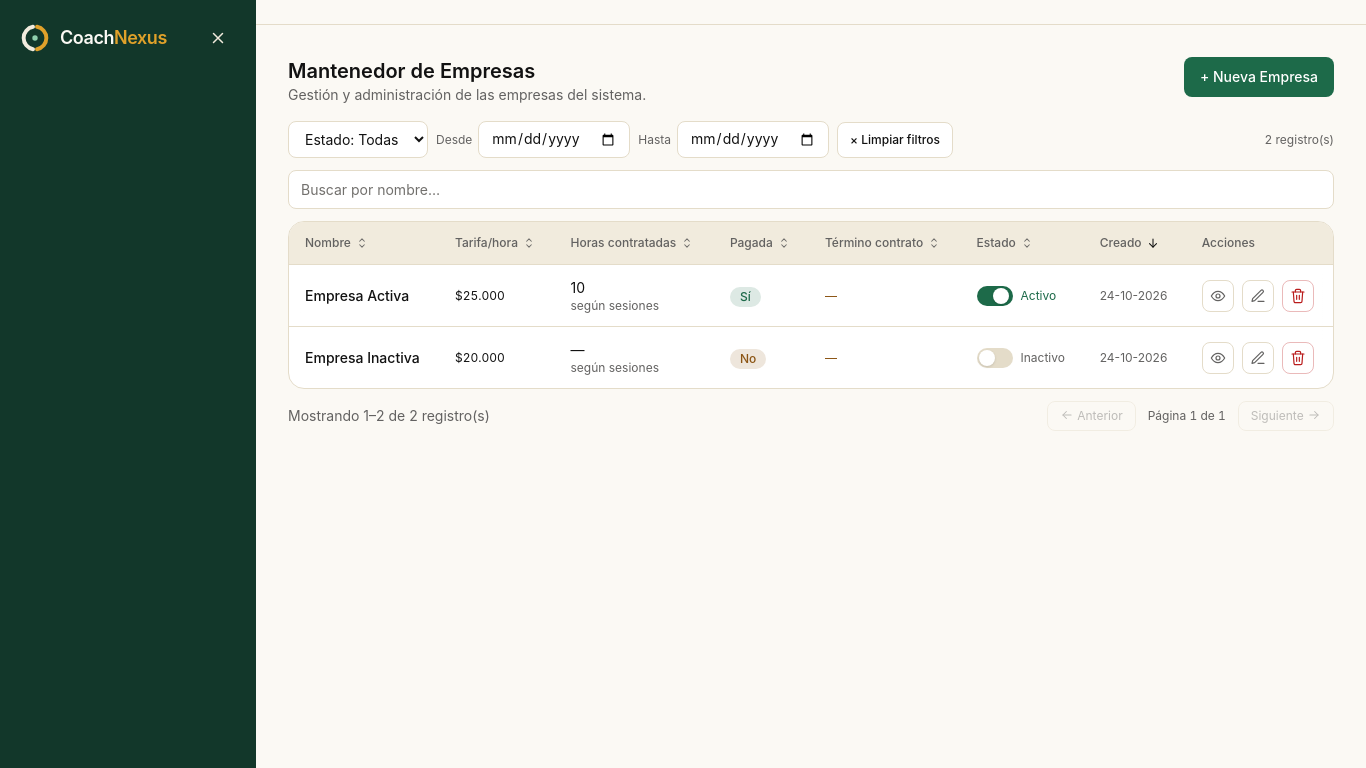
Test case: EmpresasView › shows the empresa's own manual (cargado desde su portal) apart from the coach catalog
The width and height of the screenshot is (1366, 768).
Click the button titled "Editar" in the row of "Empresa Activa".
click(1258, 296)  # box [1242, 280, 1274, 312]
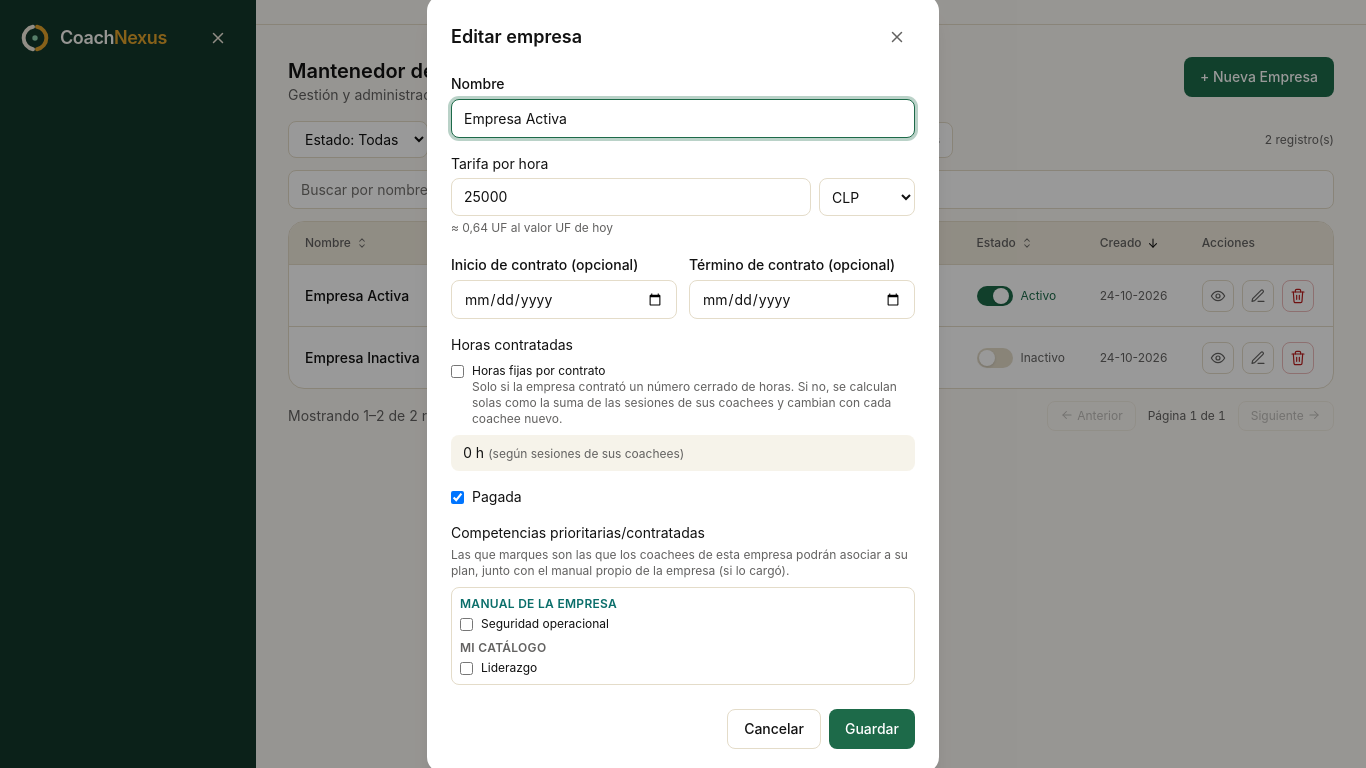
Expected: the text "Manual de la empresa" is shown, [460, 596, 617, 611]
Expected: the text "Seguridad operacional" is shown, [460, 616, 609, 631]
Expected: the text "Mi catálogo" is shown, [460, 640, 546, 655]
